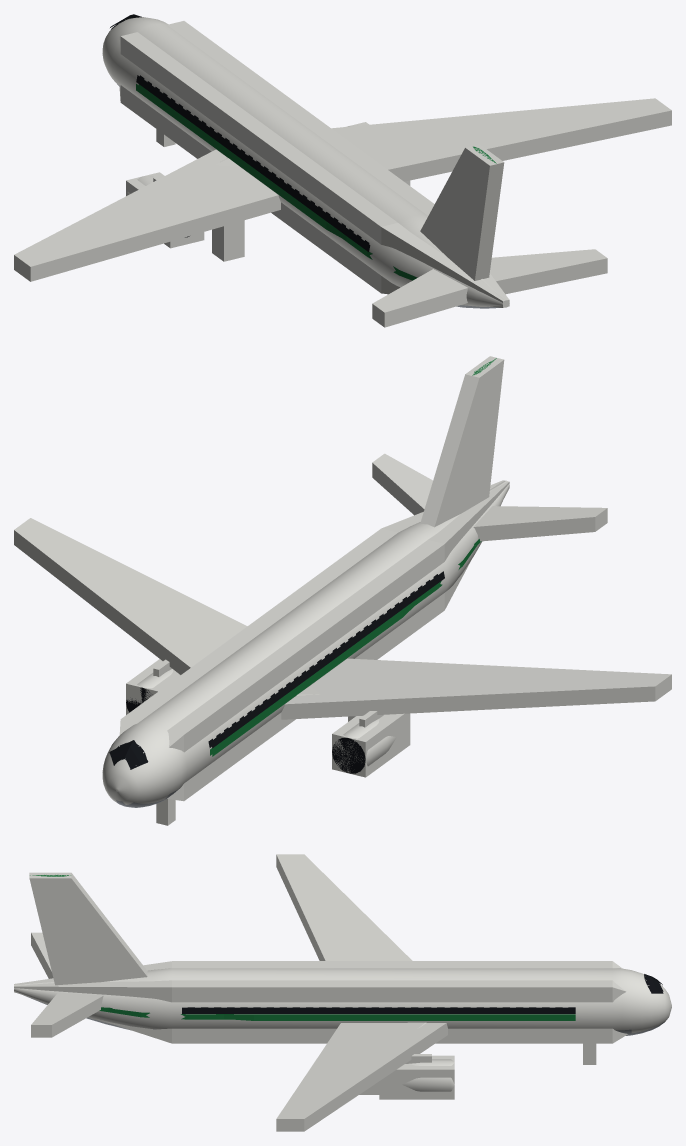
Rendered from bne_ac_narrow_green.dae.
The picture shows the model from 3 angles, top to bottom: view 1: azimuth 30°, elevation 25°; view 2: azimuth 150°, elevation 25°; view 3: azimuth 270°, elevation 25°; orthographic projection. The views are drawn at different scales.
Visible parts, largest first — view 1: Colmesh_bne_ac_narrow_green-1, bne_ac_narrow_green160, bne_ac_narrow_green16; view 2: Colmesh_bne_ac_narrow_green-1, bne_ac_narrow_green160, bne_ac_narrow_green16; view 3: Colmesh_bne_ac_narrow_green-1, bne_ac_narrow_green160, bne_ac_narrow_green16.
Boxes of the visible parts, left/top/right/bottom form: Colmesh_bne_ac_narrow_green-1: left=14, top=21, right=671, bottom=327; bne_ac_narrow_green160: left=14, top=16, right=508, bottom=318; bne_ac_narrow_green16: left=109, top=14, right=508, bottom=307; Colmesh_bne_ac_narrow_green-1: left=14, top=356, right=671, bottom=825; bne_ac_narrow_green160: left=102, top=358, right=671, bottom=807; bne_ac_narrow_green16: left=109, top=481, right=504, bottom=791; Colmesh_bne_ac_narrow_green-1: left=14, top=854, right=627, bottom=1131; bne_ac_narrow_green160: left=14, top=875, right=671, bottom=1126; bne_ac_narrow_green16: left=16, top=972, right=663, bottom=1033.
Bounding box in the file's own units: 35.8 × 37.6 × 11.8.
